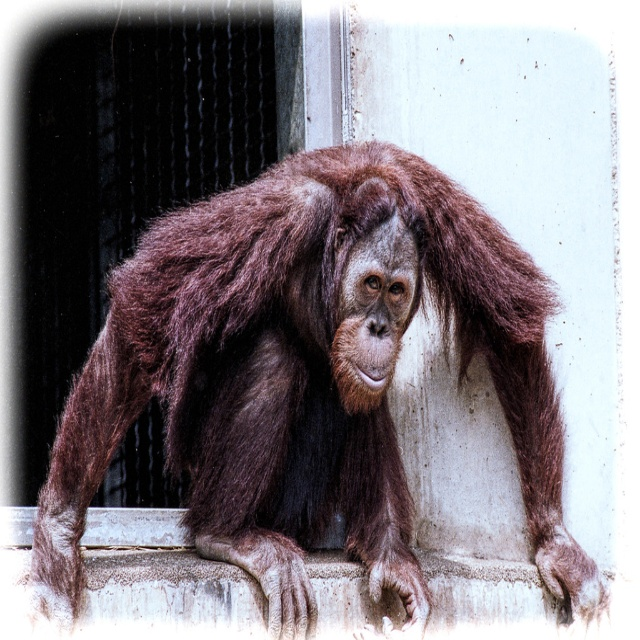Monkey: (13, 138, 614, 640)
